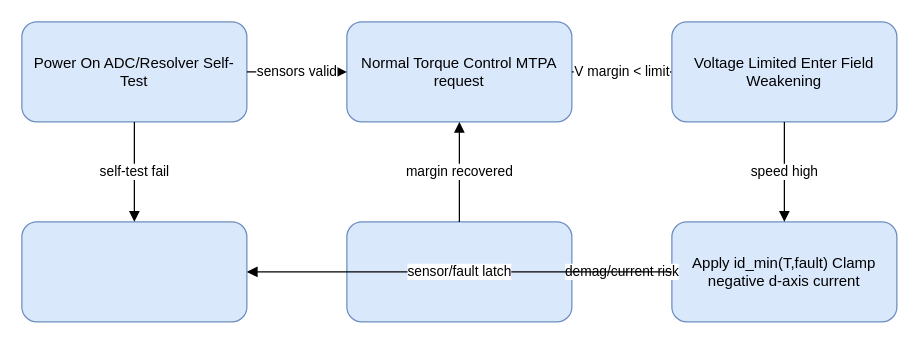
The diagram is 919 pixels wide and 344 high, and some of its shapes have lost their labels. Here are the shapes that lost their labels. From the top down, the centre of each, then its label:
At pixel 134 271: "Fault Fallback Gate disable request".
At pixel 459 271: "Derate Torque Voltage/current margin recovered".
